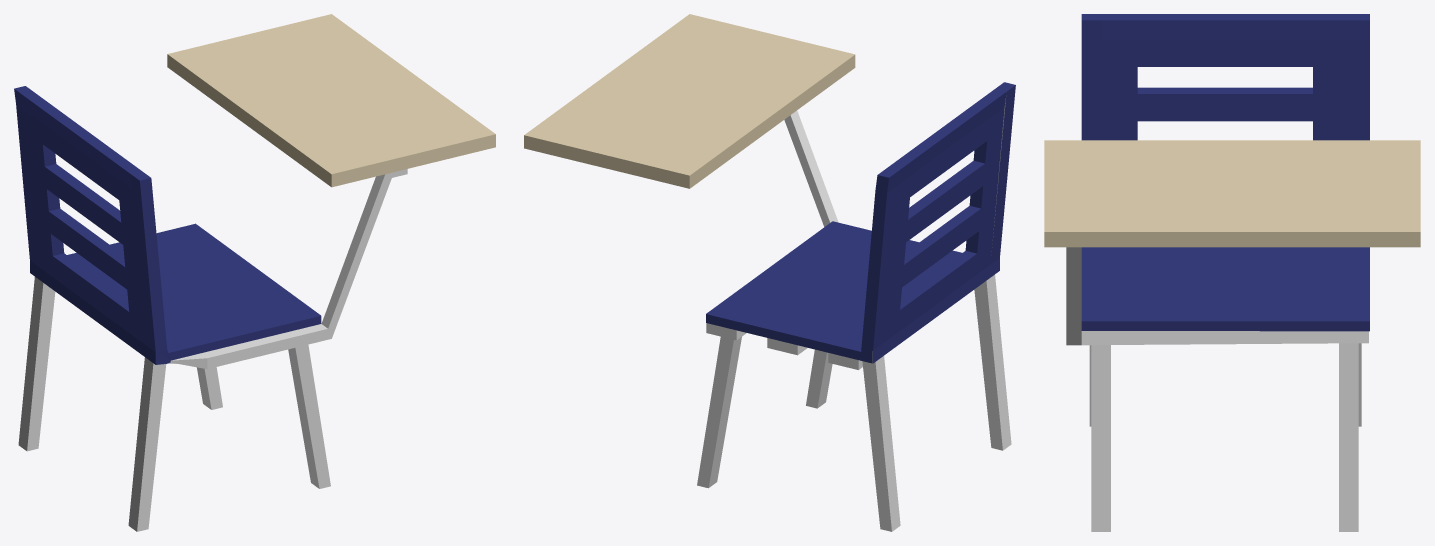
The model's file is Desk.fbx.
3 views of the same model, side by side, from view 1: azimuth 30°, elevation 25°; view 2: azimuth 150°, elevation 25°; view 3: azimuth 270°, elevation 25° (orthographic). The views are drawn at different scales.
Visible parts, largest first — view 1: Cube; view 2: Cube; view 3: Cube.
Boxes of the visible parts, x1=… form: Cube: x1=14, y1=14, x2=495, y2=531; Cube: x1=524, y1=14, x2=1015, y2=531; Cube: x1=1044, y1=14, x2=1420, y2=531.
Bounding box in the file's own units: 298 × 298 × 249.
